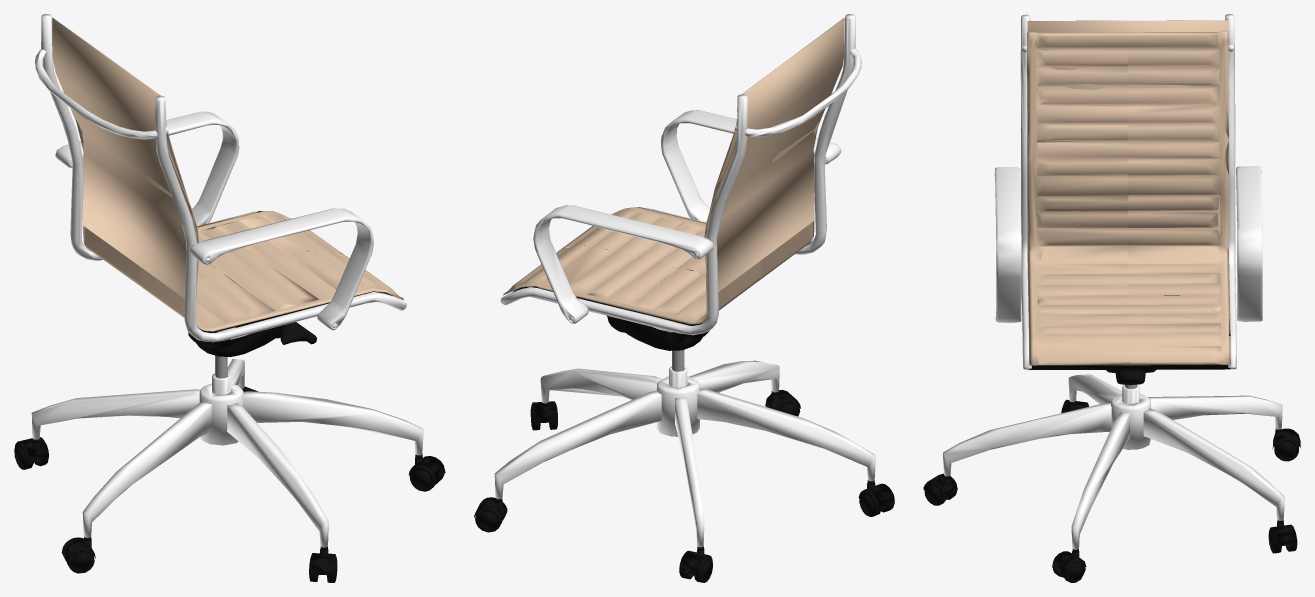
Rendered from SimpleOfficeChair.fbx.
3 views of the same model, side by side, from view 1: azimuth 30°, elevation 25°; view 2: azimuth 150°, elevation 25°; view 3: azimuth 270°, elevation 25° (orthographic). The views are drawn at different scales.
Parts seen in each view (by area): view 1: origami_chair.003; view 2: origami_chair.003; view 3: origami_chair.003.
Boxes of the visible parts, bbox=[...] form: origami_chair.003: bbox=[14, 14, 445, 582]; origami_chair.003: bbox=[474, 14, 894, 582]; origami_chair.003: bbox=[923, 14, 1300, 582].
Size of the model in its own units: 65.32 by 79.3 by 62.45.
